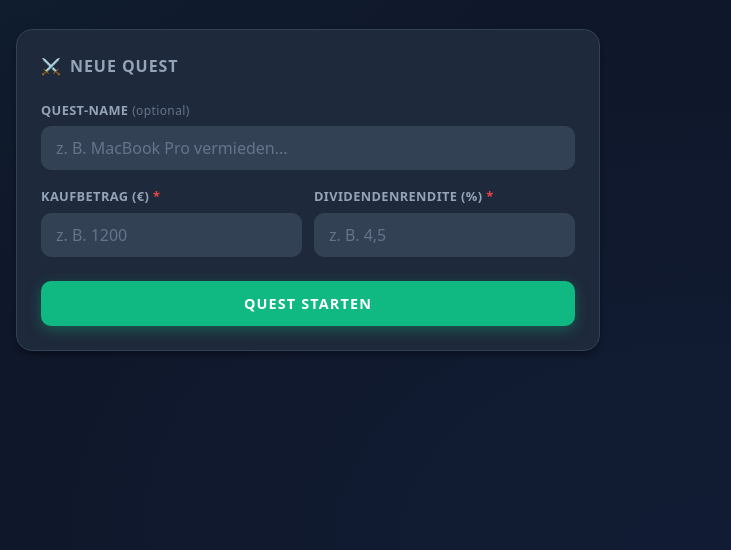
Test case: QuestForm › shows validation error when amount is empty
The image size is (731, 550).
What coordinates should you click on to do the following:
click the button "Quest starten"
I would click on:
 (308, 303)
Its box is x1=41 y1=281 x2=575 y2=326.
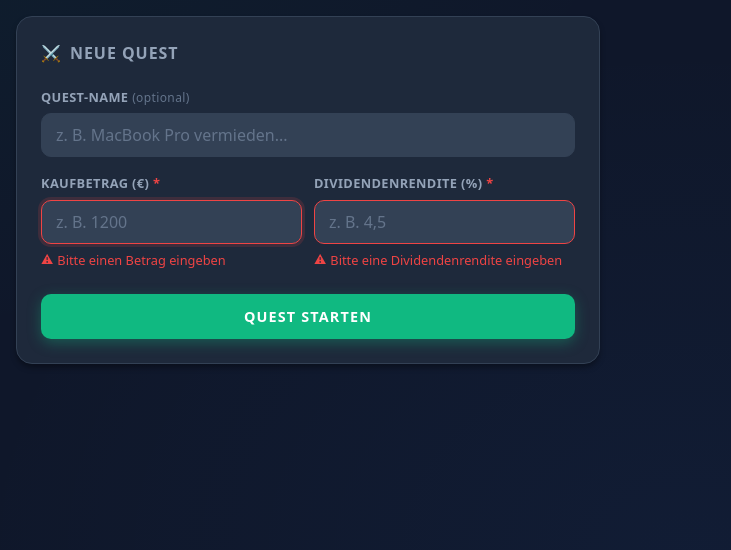
Expected: the text "Bitte einen Betrag eingeben" is shown, x1=57 y1=250 x2=226 y2=268
